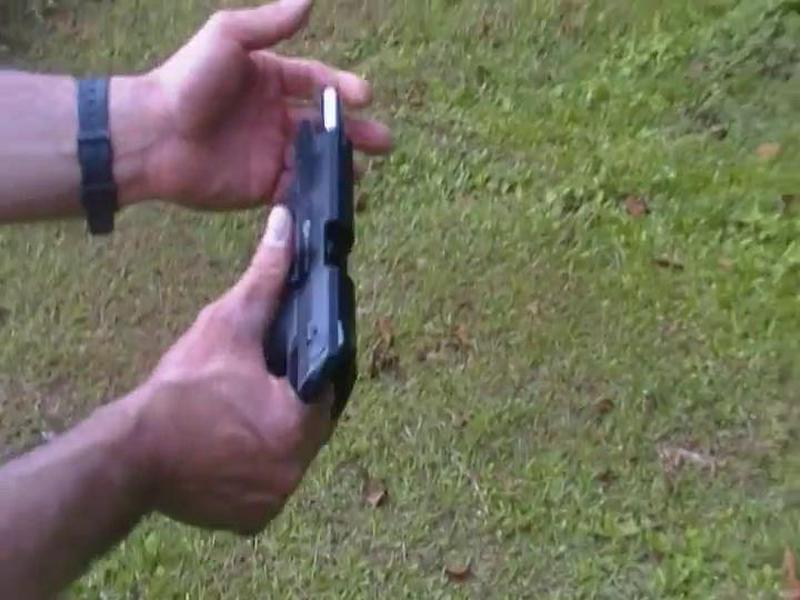Pistola: (160, 129, 392, 453)
